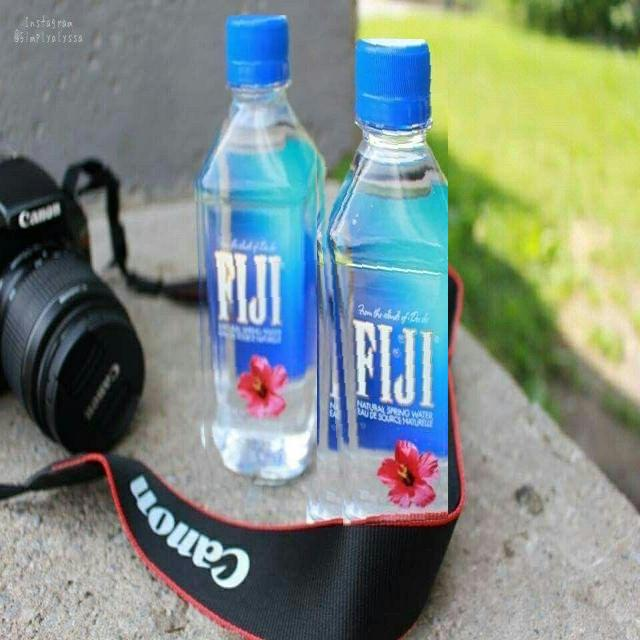plastic bottle: (327, 39, 448, 525), (197, 15, 317, 484)
